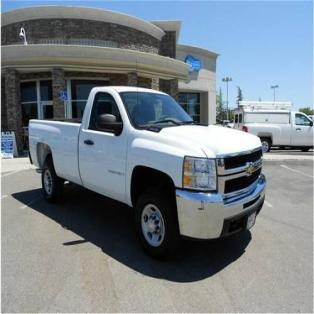Auto: (27, 85, 267, 260)
